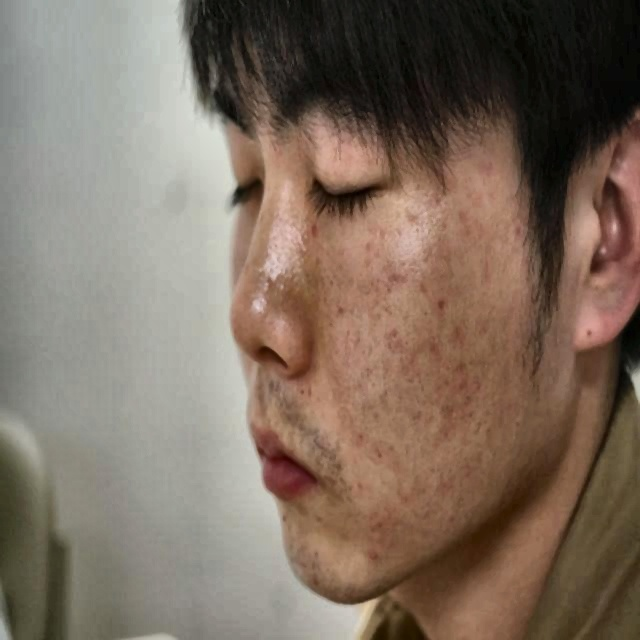comedone: (364, 542, 389, 563)
